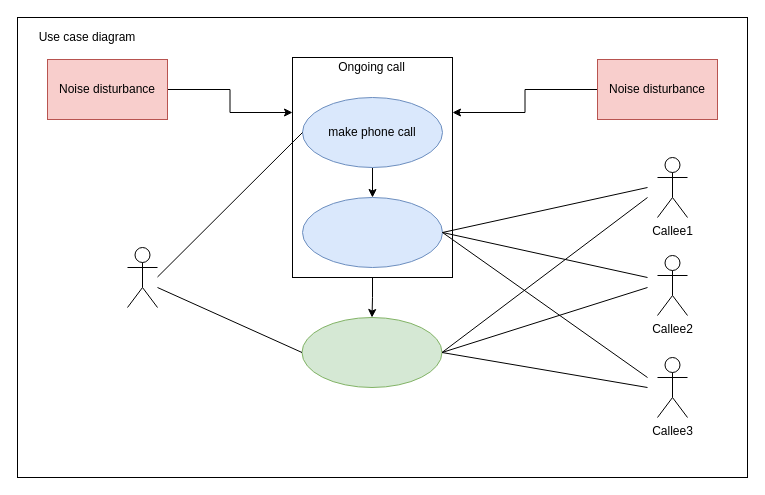
Some shapes in this 765 by 495 pixel diagram are drawn without their labels. Each missing label, with the box of its shape:
Caller: (126, 246, 158, 308)
join phone call: (302, 196, 442, 268)
subtitles ON: (301, 316, 442, 388)
